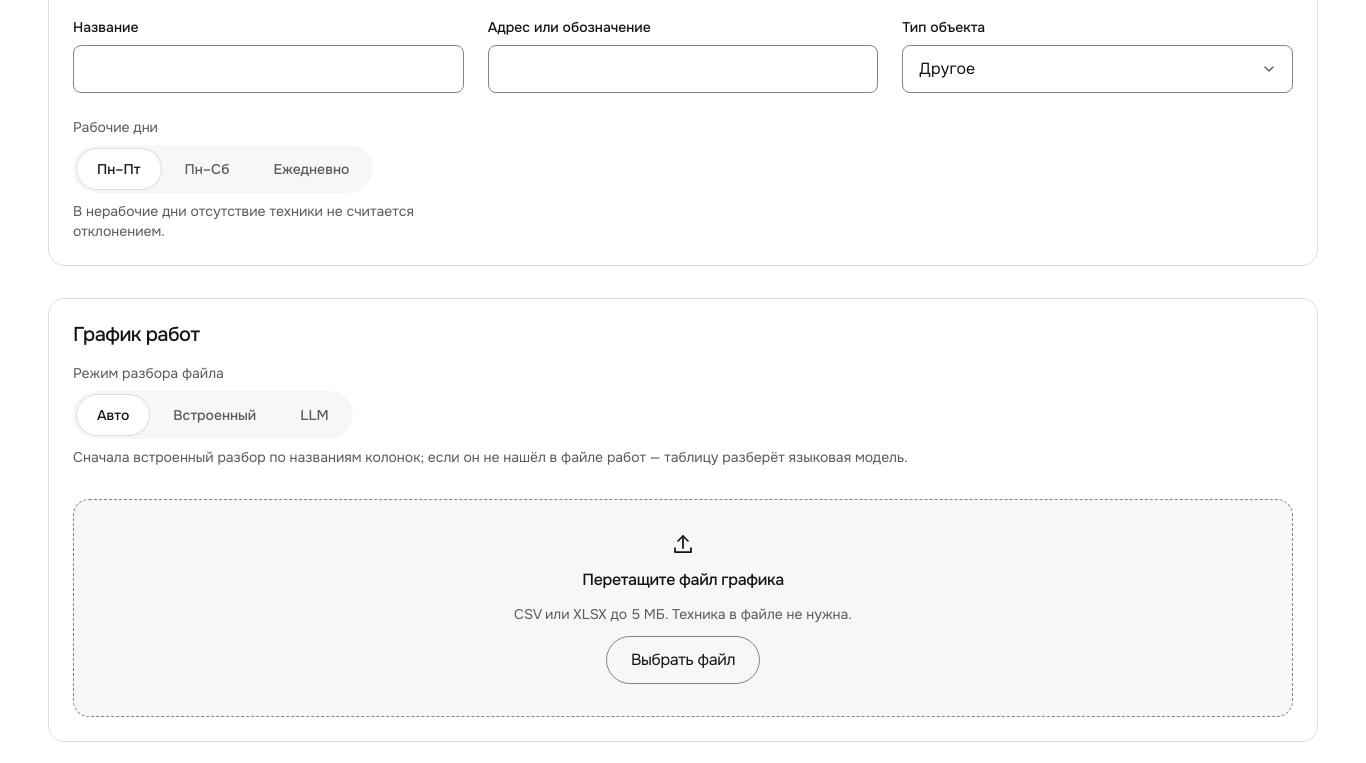
creating a site › offers three parse modes, auto by default, each with its own hint
(page scrolled)
Expected: the text with test id "parse-mode-hint" shows "если он не нашёл в файле работ", [73,448,908,466]
What coordinates should you click on to do the following:
click the button "Встроенный"
I would click on:
 (215, 415)
Its box is [153,395,276,435].
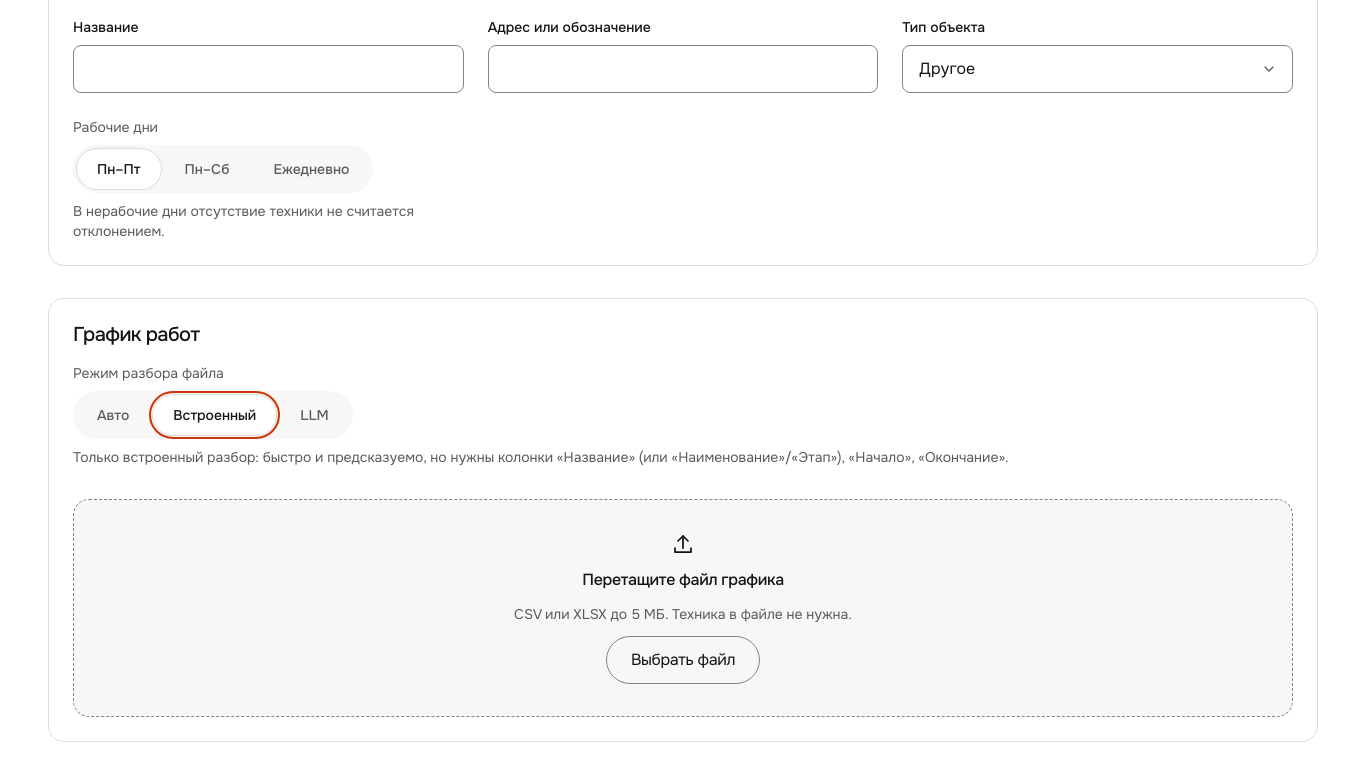
Expected: the text with test id "parse-mode-hint" shows "«Название» (или «Наименование»/«Этап»), «Начало», «Окончание»", [73,448,1009,466]
What coordinates should you click on to do the following:
click the button "LLM"
I would click on:
 (315, 415)
Its box is [280,395,349,435].
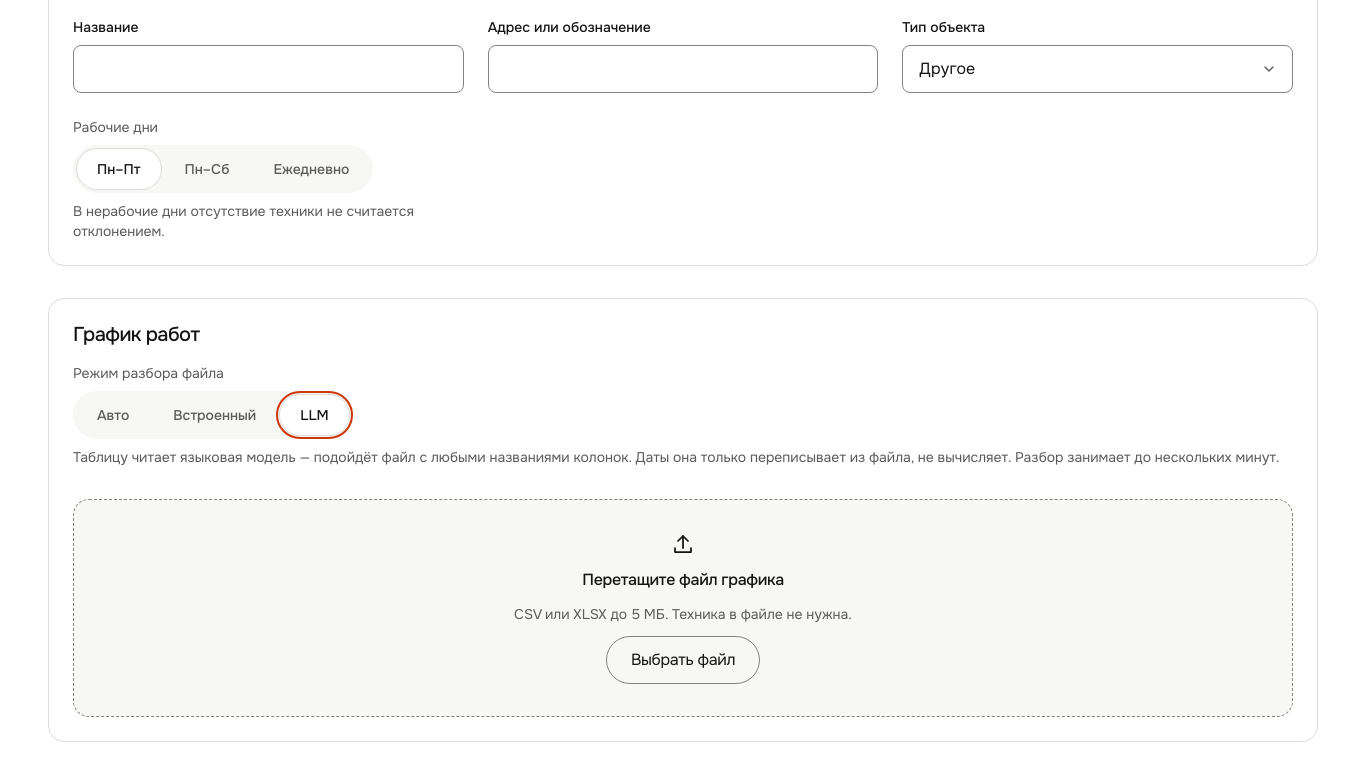
Expected: the text with test id "parse-mode-hint" shows "любыми названиями колонок", [73,448,1280,466]
